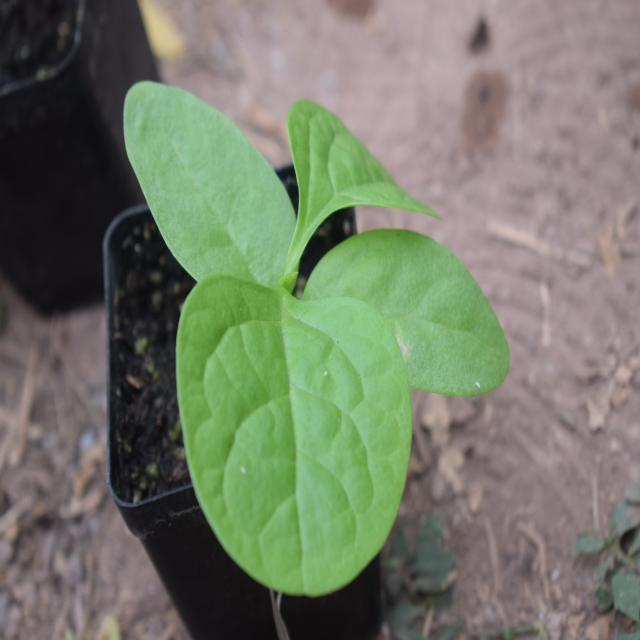Ceylon spinach: (126, 78, 510, 580)
